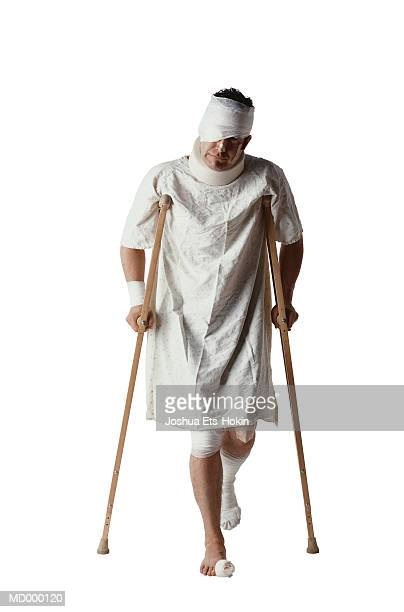crutches: (95, 89, 320, 576)
